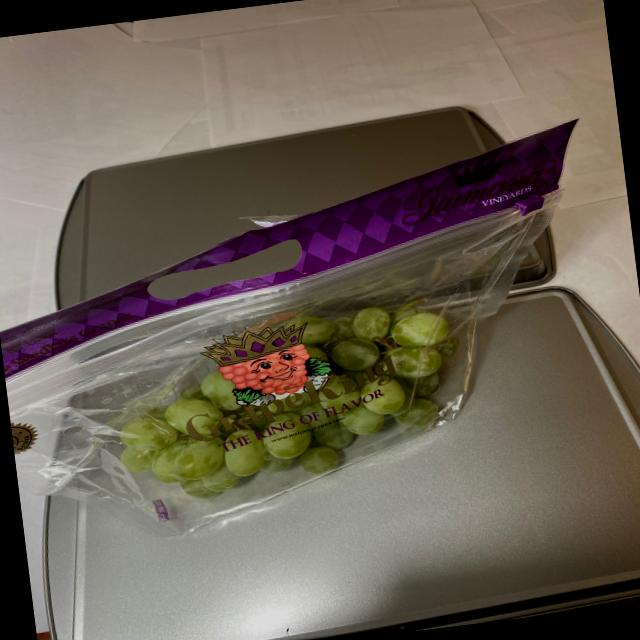grapes: (114, 284, 491, 516)
